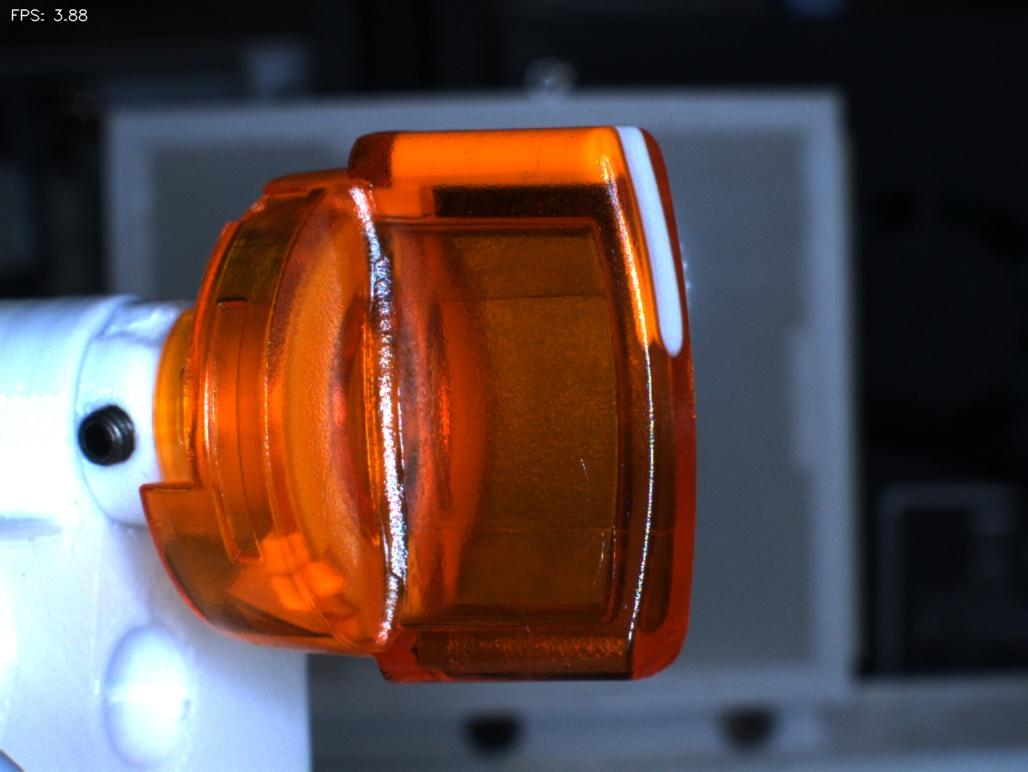Givrage: (562, 442, 635, 624)
